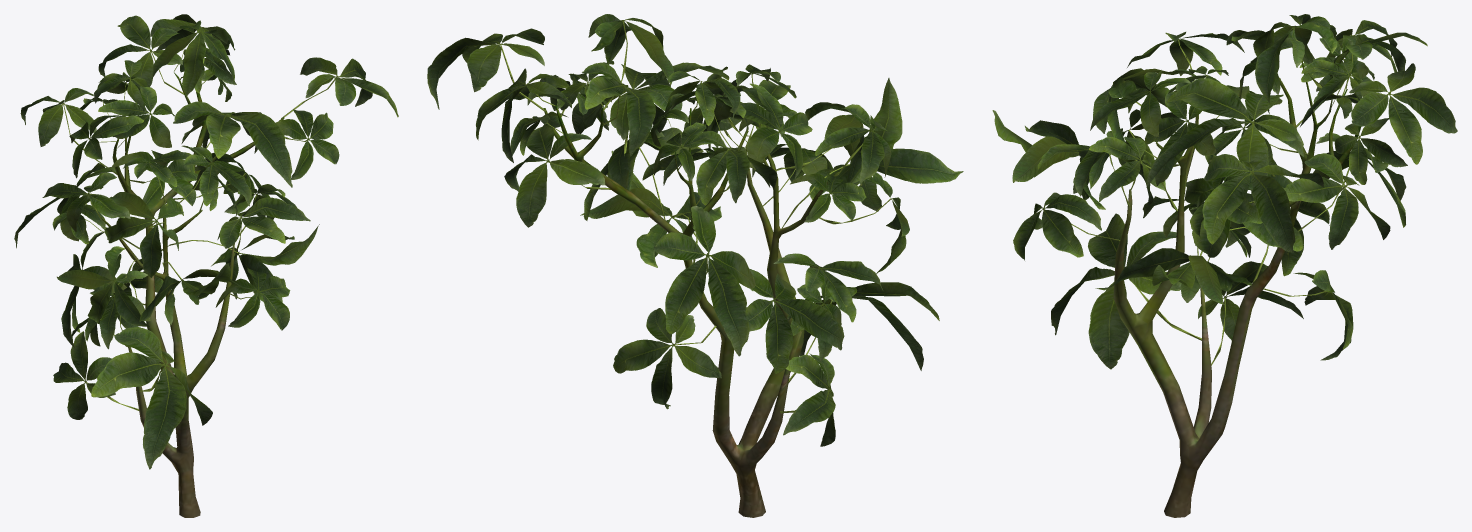
Rendered from shrub_b.glb.
The picture shows the model from 3 angles, left to right: view 1: azimuth 30°, elevation 25°; view 2: azimuth 150°, elevation 25°; view 3: azimuth 270°, elevation 25°; orthographic projection. The views are drawn at different scales.
Parts seen in each view (by area): view 1: shrub_b; view 2: shrub_b; view 3: shrub_b.
Part boxes in pixels (x1,y1,x2,y2): shrub_b: (14,14,398,517); shrub_b: (427,14,963,517); shrub_b: (992,14,1457,517).
Bounding box in the file's own units: 0.9753 × 1.14 × 0.9237.
2 materials, 2 textured.
